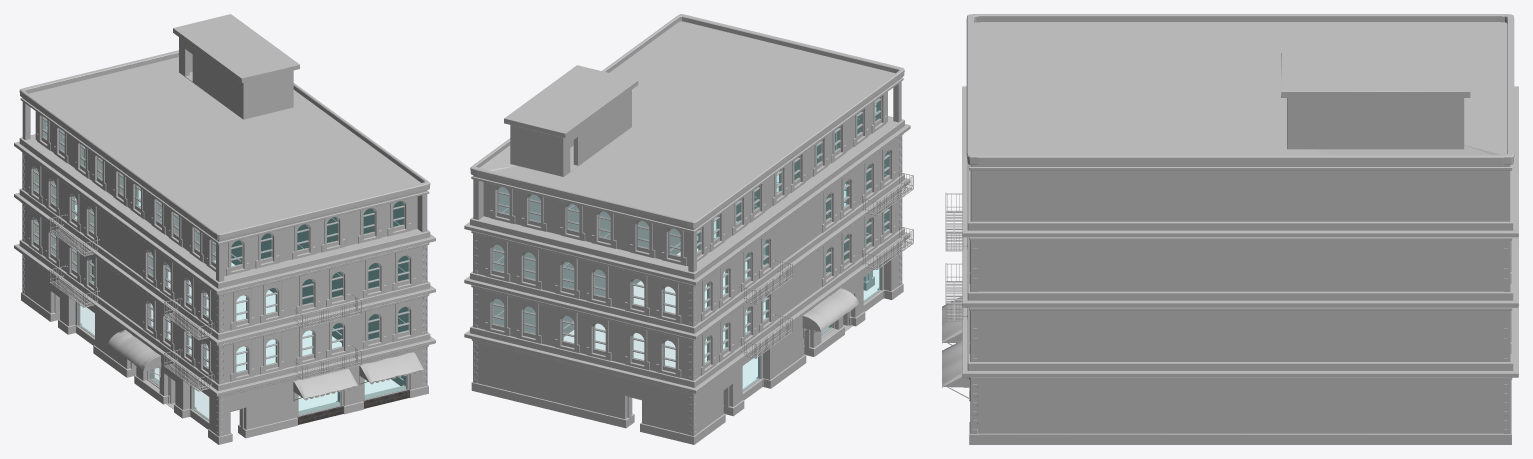
File: SM_Building16_V2.fbx
3 views of the same model, side by side, from view 1: azimuth 30°, elevation 25°; view 2: azimuth 150°, elevation 25°; view 3: azimuth 270°, elevation 25° (orthographic). The views are drawn at different scales.
Parts seen in each view (by area): view 1: SM_Building16_V2; view 2: SM_Building16_V2; view 3: SM_Building16_V2.
Boxes of the visible parts, box(x1,y1,x2,y2) form: SM_Building16_V2: box(14, 14, 435, 444); SM_Building16_V2: box(464, 14, 913, 444); SM_Building16_V2: box(942, 14, 1518, 444).
Size of the model in its own units: 1917 by 1979 by 3019.
